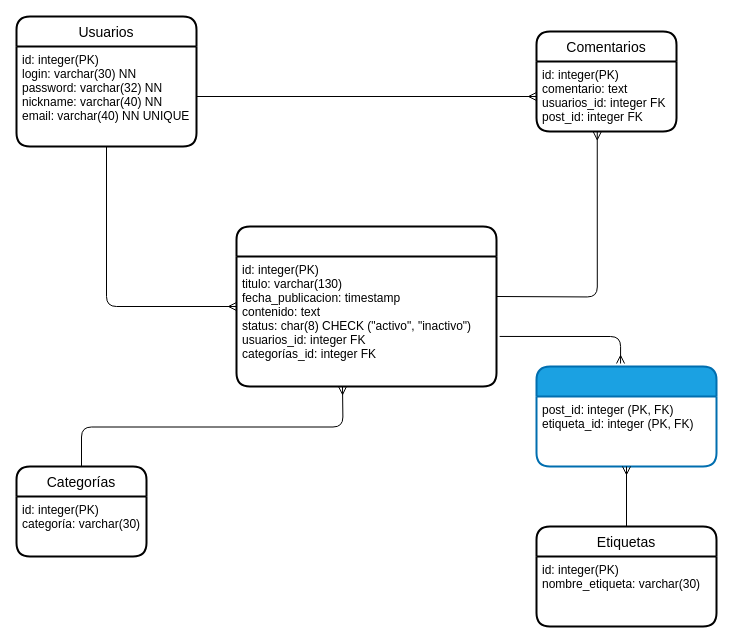
Image size: 733x643. Some labels were removed from this diagram. The box of each missing label's shape, as (x1, y1, x2, y2) in pixels:
Posts: (235, 225, 497, 387)
posts_etiquetas: (535, 365, 717, 467)
